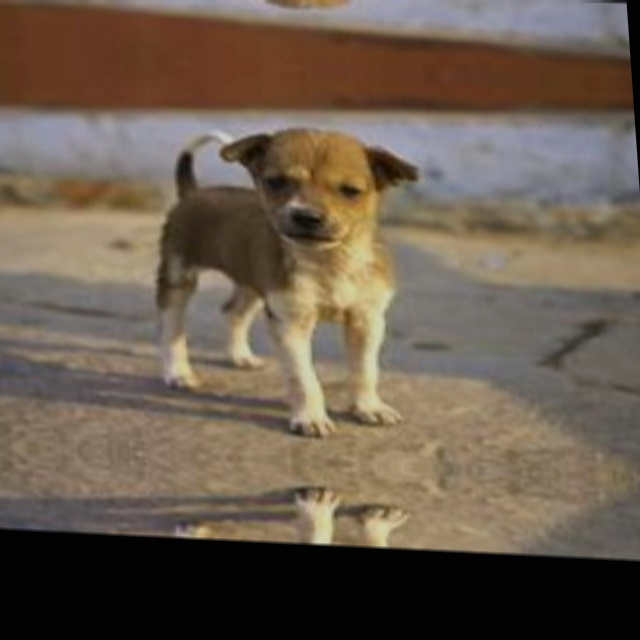dog: (65, 101, 467, 433), (92, 487, 475, 552), (56, 0, 439, 28)
